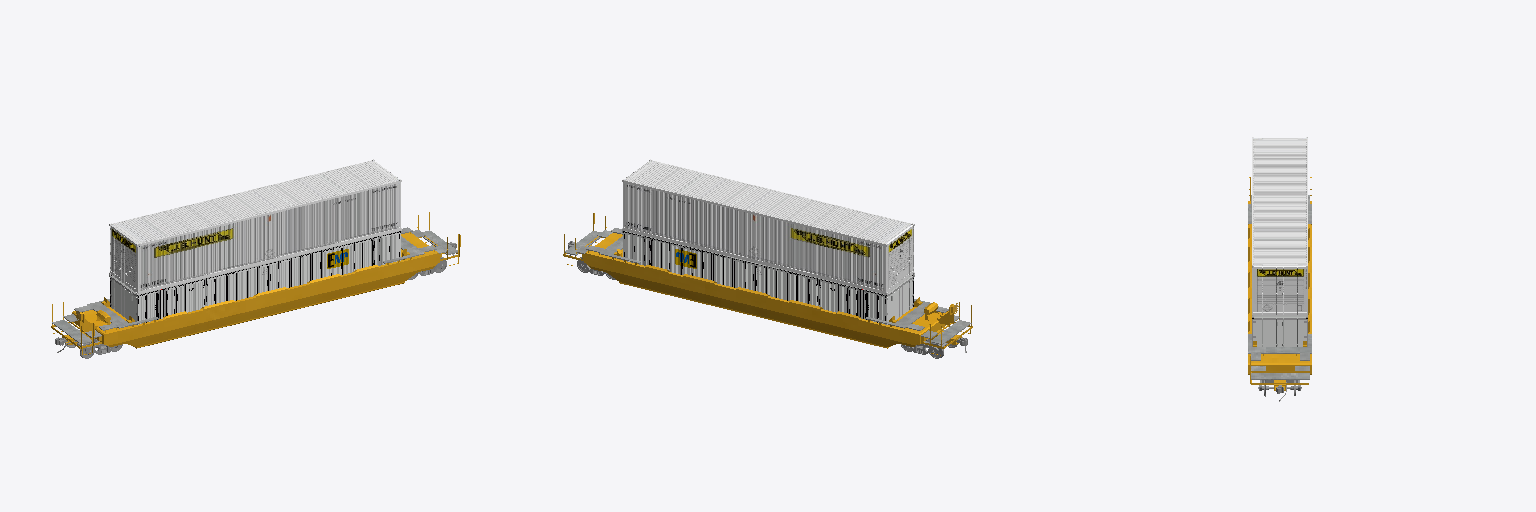
3 renders of one model, left to right at view 1: azimuth 30°, elevation 25°; view 2: azimuth 150°, elevation 25°; view 3: azimuth 270°, elevation 25°, orthographic.
Parts seen in each view (by area): view 1: CARGO_FILL_50_Cube.005, CARGO_FILL_1_Cube.003, FRAME_MAIN.001, SHELL_MAIN; view 2: CARGO_FILL_50_Cube.005, CARGO_FILL_1_Cube.003, FRAME_MAIN.001, SHELL_MAIN; view 3: CARGO_FILL_50_Cube.005, SHELL_MAIN, CARGO_FILL_1_Cube.003, FRAME_MAIN.001.
Part boxes in pixels (x1,y1,x2,y2): CARGO_FILL_50_Cube.005: (109, 159, 401, 294); CARGO_FILL_1_Cube.003: (109, 231, 401, 324); FRAME_MAIN.001: (72, 232, 439, 348); SHELL_MAIN: (51, 212, 460, 354); CARGO_FILL_50_Cube.005: (622, 159, 914, 294); CARGO_FILL_1_Cube.003: (622, 231, 914, 324); FRAME_MAIN.001: (584, 233, 948, 348); SHELL_MAIN: (563, 213, 972, 355); CARGO_FILL_50_Cube.005: (1252, 137, 1307, 316); SHELL_MAIN: (1248, 177, 1311, 390); CARGO_FILL_1_Cube.003: (1252, 316, 1307, 346); FRAME_MAIN.001: (1248, 201, 1311, 374).
Bounding box in the file's own units: 22.83 × 5.93 × 3.19.
5 materials, 3 textured.